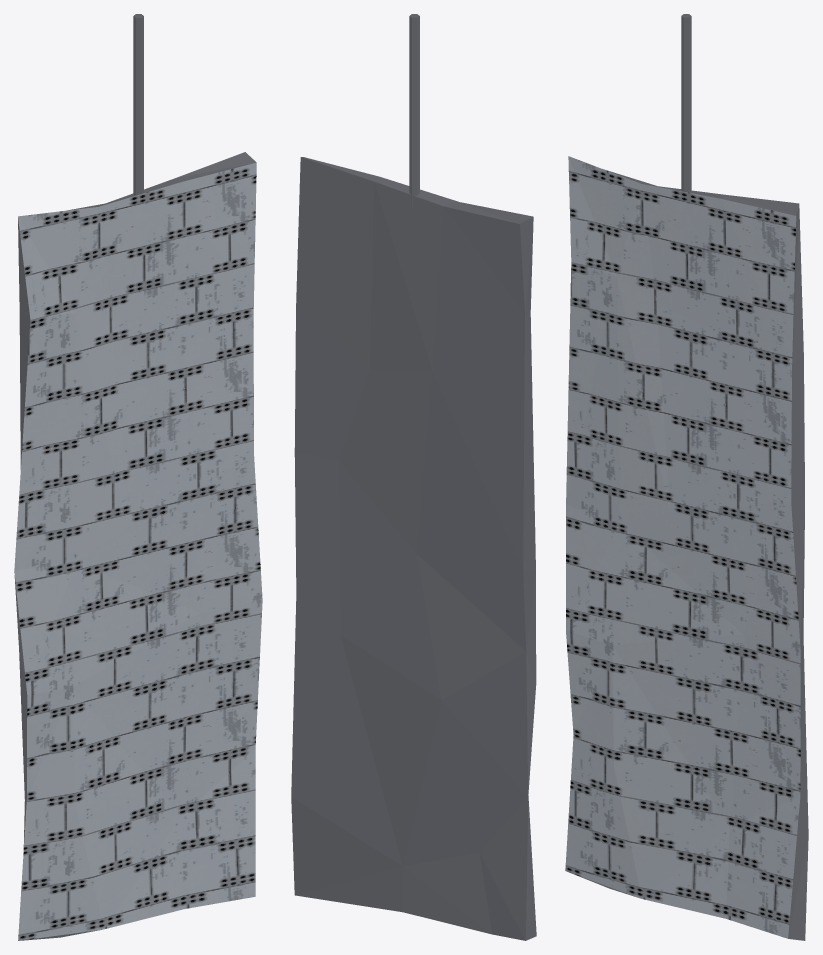
The model's file is plat4.glb.
3 views of the same model, side by side, from view 1: azimuth 30°, elevation 25°; view 2: azimuth 150°, elevation 25°; view 3: azimuth 330°, elevation 25° (orthographic).
Parts seen in each view (by area): view 1: Solar_big_whole; view 2: Solar_big_whole; view 3: Solar_big_whole.
Boxes of the visible parts, x1=… form: Solar_big_whole: x1=14, y1=14, x2=262, y2=940; Solar_big_whole: x1=291, y1=14, x2=536, y2=940; Solar_big_whole: x1=565, y1=14, x2=808, y2=940.
Bounding box in the file's own units: 3.99 × 14.29 × 0.4248.
1 material, 1 textured.
